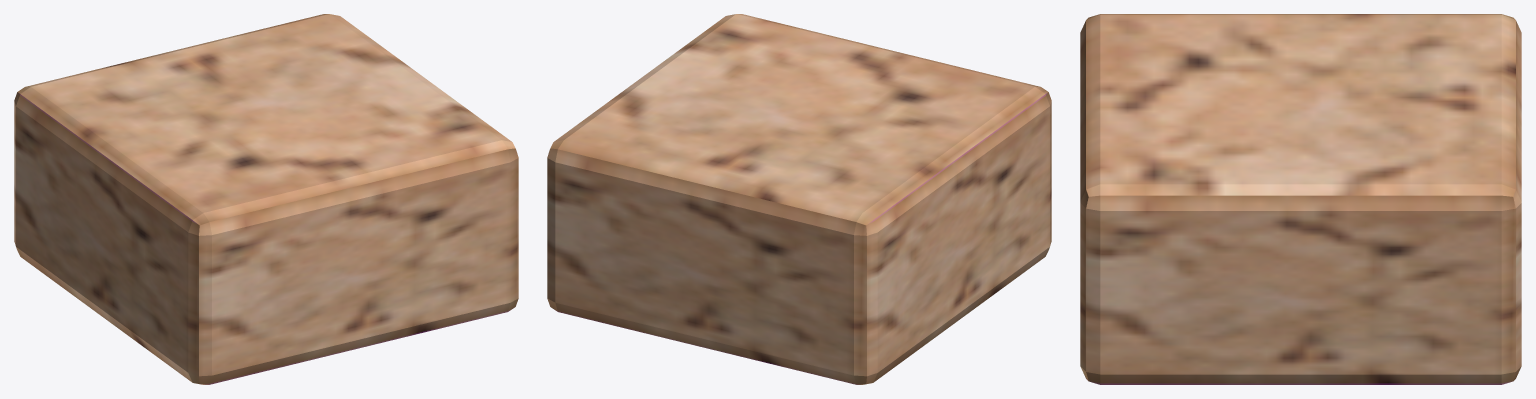
Rendered from BreakHalfCubeSmall.fbx.
3 views of the same model, side by side, from view 1: azimuth 30°, elevation 25°; view 2: azimuth 150°, elevation 25°; view 3: azimuth 270°, elevation 25° (orthographic). The views are drawn at different scales.
Parts seen in each view (by area): view 1: Cube.012; view 2: Cube.012; view 3: Cube.012.
Part boxes in pixels (box(x1,y1,x2,y2)): Cube.012: box(14, 14, 518, 384); Cube.012: box(547, 14, 1051, 384); Cube.012: box(1080, 14, 1521, 384).
Size of the model in its own units: 200 by 100 by 200.
